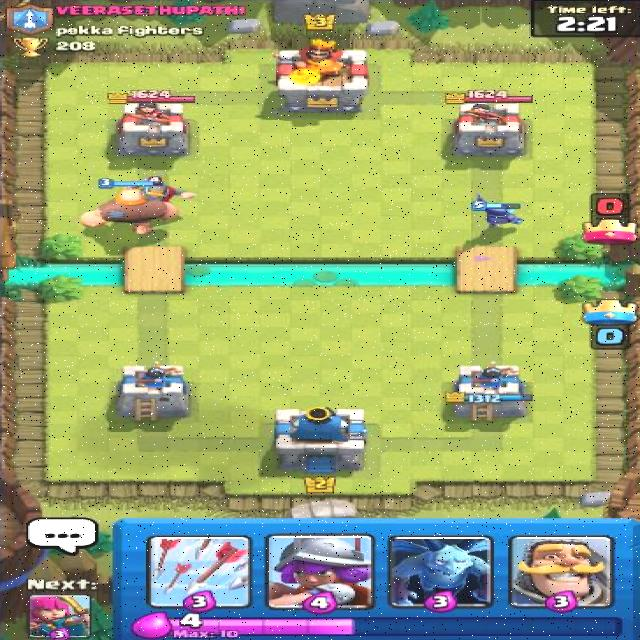Enemy-Knight: (119, 174, 197, 210)
Player-Giant: (77, 176, 181, 236)
Player-MiniPEKKA: (469, 192, 526, 230)
